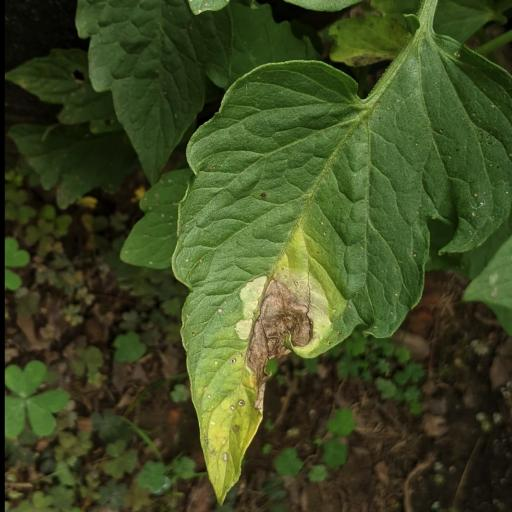Early Blight: (170, 37, 512, 509)
